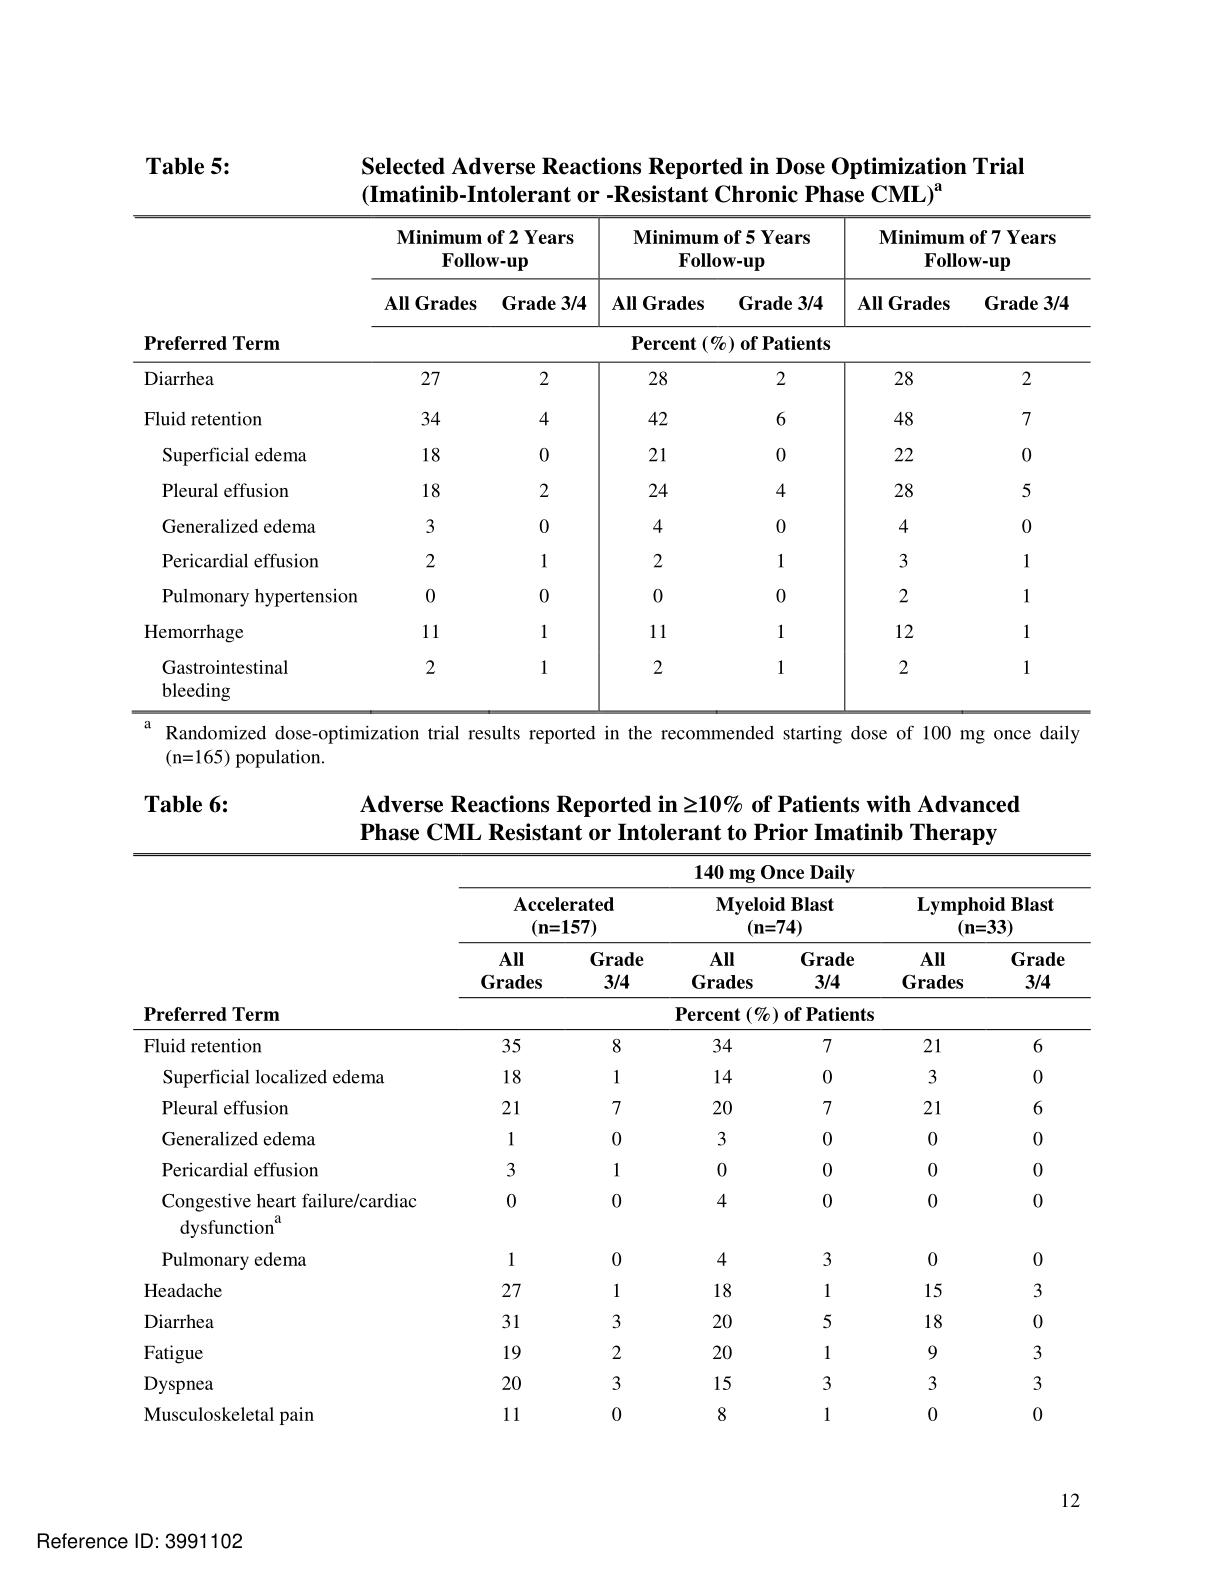partial_lined_merged_cells: (134, 852, 1092, 1430), (130, 213, 1092, 715)
